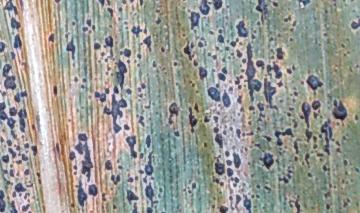tarspot: (246, 42, 262, 101), (103, 94, 126, 132), (75, 142, 93, 182), (262, 77, 278, 111), (113, 58, 127, 89), (321, 120, 331, 154), (75, 179, 87, 207), (333, 98, 347, 121), (256, 1, 268, 24), (306, 74, 323, 90), (259, 151, 274, 169), (302, 101, 311, 130), (126, 136, 137, 159), (214, 154, 226, 175), (235, 20, 249, 37), (17, 109, 27, 132), (66, 35, 75, 60), (4, 1, 18, 16), (207, 87, 221, 102), (184, 40, 194, 60), (189, 11, 200, 29), (126, 190, 140, 204), (145, 153, 154, 174), (243, 193, 252, 213), (189, 106, 197, 128), (145, 182, 154, 201), (272, 61, 282, 78), (130, 25, 143, 38), (4, 76, 16, 90), (143, 35, 152, 53), (199, 1, 210, 15), (1, 101, 9, 120), (222, 89, 230, 108), (214, 132, 223, 148), (233, 151, 241, 168), (295, 194, 302, 213), (14, 33, 22, 49), (275, 130, 283, 146), (198, 66, 207, 80), (11, 17, 21, 29), (104, 36, 114, 48), (137, 114, 146, 127), (282, 128, 295, 137), (235, 193, 241, 212), (170, 102, 179, 114), (351, 18, 360, 30), (89, 184, 98, 196), (298, 1, 311, 9), (276, 47, 284, 60), (305, 129, 313, 142), (10, 200, 18, 213), (311, 100, 321, 110), (111, 175, 121, 185), (123, 47, 132, 58), (219, 204, 230, 213), (15, 183, 26, 192), (3, 64, 11, 76), (7, 117, 15, 129), (104, 159, 112, 171), (1, 189, 5, 212), (213, 1, 223, 10), (255, 59, 265, 68), (305, 150, 310, 168), (231, 176, 239, 187), (167, 114, 174, 126), (293, 139, 299, 153), (278, 176, 290, 183), (69, 150, 76, 162), (36, 171, 42, 185), (218, 72, 226, 82), (262, 134, 272, 142), (257, 112, 265, 122), (266, 64, 272, 77), (193, 29, 200, 40), (131, 202, 138, 213), (257, 101, 265, 110), (31, 145, 38, 155), (226, 166, 233, 176), (146, 134, 151, 147), (217, 35, 225, 43), (203, 115, 211, 123), (10, 107, 17, 116), (99, 93, 106, 102), (78, 134, 87, 141), (321, 164, 330, 171), (21, 204, 30, 211), (1, 41, 6, 53), (15, 92, 21, 102), (49, 33, 55, 43), (107, 7, 113, 17), (113, 84, 119, 94), (237, 94, 243, 104), (101, 192, 107, 202), (275, 158, 280, 170), (236, 49, 243, 57), (234, 76, 241, 84), (236, 128, 241, 139), (292, 118, 297, 129), (151, 200, 160, 206), (328, 126, 332, 139), (2, 155, 9, 162), (272, 1, 279, 8), (284, 15, 291, 22), (23, 169, 30, 176), (146, 206, 153, 213), (1, 168, 8, 175), (6, 179, 13, 186), (11, 130, 17, 138), (86, 18, 92, 26), (8, 146, 14, 154), (21, 154, 29, 160), (241, 132, 253, 136), (277, 79, 283, 87), (142, 175, 148, 183), (194, 103, 199, 112), (9, 168, 14, 177), (53, 85, 57, 96), (56, 143, 60, 154), (1, 90, 7, 97), (21, 91, 28, 97), (94, 43, 101, 49), (98, 1, 105, 7), (218, 28, 225, 34), (197, 41, 204, 47), (221, 67, 228, 73), (230, 40, 236, 47), (239, 105, 245, 112), (224, 150, 230, 157), (226, 160, 233, 166), (286, 68, 292, 75), (313, 112, 319, 119), (213, 178, 220, 184), (289, 200, 295, 207), (324, 191, 331, 197), (264, 186, 271, 192), (24, 192, 30, 199), (11, 52, 16, 60), (143, 27, 148, 35), (156, 17, 161, 25), (152, 60, 157, 68), (213, 115, 218, 123), (23, 142, 29, 148), (94, 91, 100, 97), (104, 88, 110, 94), (126, 88, 132, 94), (174, 131, 180, 137), (255, 143, 261, 149), (174, 81, 180, 87), (15, 159, 22, 164), (160, 46, 165, 53), (193, 59, 198, 66), (190, 41, 195, 48), (212, 53, 217, 60), (248, 105, 255, 110), (354, 114, 359, 121), (318, 133, 323, 140), (316, 152, 323, 157), (326, 202, 331, 209), (238, 187, 245, 192), (138, 169, 145, 174), (6, 194, 11, 201), (26, 182, 33, 187), (1, 135, 5, 143), (143, 105, 151, 109), (31, 124, 36, 130), (7, 140, 12, 146), (74, 76, 79, 82), (82, 78, 88, 83), (100, 52, 106, 57), (104, 57, 109, 63), (106, 1, 111, 7), (110, 48, 113, 58), (139, 153, 144, 159), (214, 127, 219, 133), (268, 37, 274, 42), (292, 20, 297, 26), (289, 27, 295, 32), (291, 65, 296, 71), (286, 111, 292, 116), (293, 156, 299, 161), (313, 143, 318, 149), (336, 148, 341, 154), (327, 118, 332, 124), (343, 201, 348, 207), (346, 197, 351, 203), (192, 183, 197, 189), (112, 204, 117, 210), (222, 129, 227, 135), (270, 48, 275, 54), (107, 64, 111, 71), (343, 159, 347, 166), (349, 65, 353, 72), (313, 135, 317, 142), (307, 171, 311, 178), (304, 202, 308, 209), (129, 175, 133, 182), (16, 170, 20, 177), (119, 50, 124, 55), (124, 25, 129, 30), (139, 1, 144, 6), (137, 54, 142, 59), (125, 125, 130, 130), (117, 164, 122, 169), (200, 36, 205, 41), (240, 68, 245, 73), (318, 157, 323, 162), (335, 140, 340, 145), (256, 184, 261, 189), (344, 170, 349, 175), (158, 187, 163, 192), (187, 189, 192, 194), (4, 185, 9, 190), (270, 54, 275, 59), (350, 178, 355, 183), (82, 27, 88, 31), (16, 145, 20, 151), (12, 152, 16, 158), (121, 1, 127, 5), (155, 9, 161, 13), (191, 128, 195, 134), (209, 31, 215, 35), (203, 142, 207, 148), (238, 84, 242, 90), (341, 42, 345, 48), (288, 107, 296, 110), (70, 202, 74, 208), (135, 175, 139, 181), (2, 175, 6, 181), (72, 62, 76, 68), (226, 3, 230, 9), (301, 160, 305, 166), (227, 54, 231, 60), (160, 210, 167, 213), (1, 129, 6, 133), (81, 84, 85, 89), (127, 58, 131, 63), (110, 71, 114, 76), (141, 84, 145, 89), (137, 87, 141, 92), (68, 118, 72, 123), (174, 62, 178, 67), (182, 33, 186, 38), (192, 82, 196, 87), (207, 51, 211, 56), (215, 45, 220, 49), (212, 68, 216, 73), (216, 83, 220, 88), (195, 89, 199, 94), (226, 38, 230, 43), (242, 58, 246, 63), (251, 35, 256, 39), (257, 20, 261, 25), (288, 38, 293, 42), (300, 115, 305, 119), (324, 9, 328, 14), (256, 126, 261, 130), (343, 52, 347, 57), (293, 92, 298, 96), (279, 99, 284, 103), (244, 146, 248, 151), (220, 182, 225, 186), (288, 170, 293, 174), (229, 197, 234, 201), (355, 167, 359, 172), (342, 135, 346, 140), (250, 173, 255, 177), (73, 165, 78, 169), (150, 176, 155, 180), (12, 192, 16, 197), (27, 198, 31, 203), (235, 38, 240, 42), (239, 41, 243, 46), (224, 16, 229, 20), (93, 25, 96, 31), (76, 107, 79, 113), (131, 5, 134, 11), (226, 45, 229, 51), (356, 201, 359, 207), (72, 21, 76, 25), (119, 8, 123, 12), (124, 20, 128, 24), (139, 42, 143, 46), (139, 94, 143, 98), (88, 95, 92, 99), (189, 80, 193, 84), (222, 58, 226, 62), (216, 111, 220, 115), (248, 121, 252, 125), (253, 29, 257, 33), (333, 3, 337, 7), (356, 64, 360, 68), (329, 184, 333, 188), (211, 204, 215, 208), (229, 127, 233, 131), (278, 151, 282, 155), (277, 33, 281, 37), (352, 9, 356, 13), (110, 186, 114, 190), (21, 134, 24, 139), (118, 16, 121, 21), (341, 178, 344, 183), (158, 193, 161, 198), (293, 98, 296, 103), (212, 197, 217, 200), (54, 1, 61, 3), (98, 60, 102, 63), (106, 71, 109, 75), (134, 59, 137, 63), (116, 160, 120, 163), (231, 52, 234, 56), (229, 80, 232, 84), (301, 81, 304, 85), (323, 33, 327, 36), (347, 51, 351, 54), (252, 194, 255, 198), (256, 194, 259, 198), (336, 122, 340, 125), (19, 193, 22, 197), (162, 67, 165, 71), (283, 150, 286, 154), (130, 1, 135, 3), (28, 211, 33, 213), (349, 1, 354, 3), (346, 180, 348, 185), (14, 144, 17, 147), (18, 152, 21, 155), (10, 164, 13, 167), (137, 64, 140, 67), (240, 75, 243, 78), (243, 183, 246, 186), (279, 147, 282, 150), (110, 23, 112, 27), (247, 163, 251, 165), (218, 191, 222, 193), (341, 1, 346, 2)
